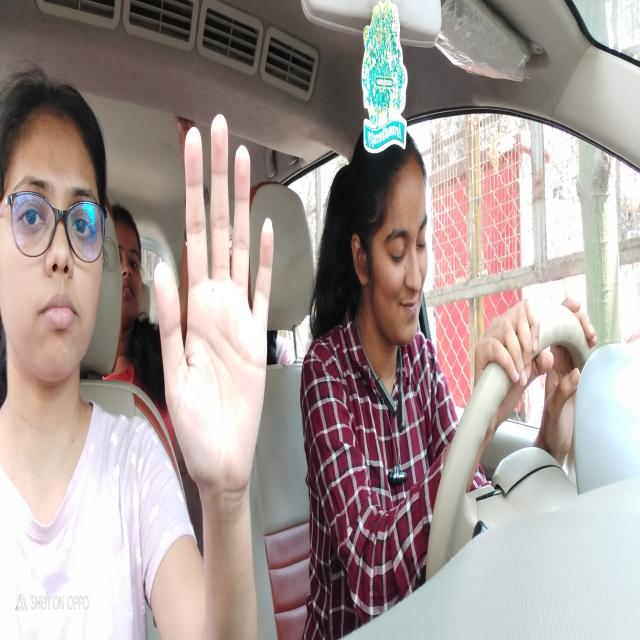drowsy: (355, 152, 430, 348)
person: (2, 87, 103, 380), (119, 208, 145, 316)
